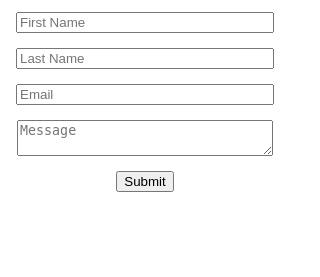
Scenario: <Form /> › shows validation errors
Click the button "Submit": (145,182) x1=116 y1=171 x2=174 y2=192
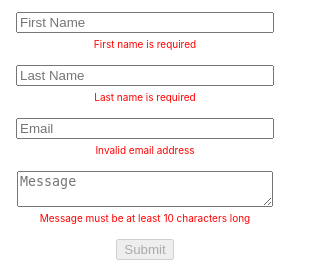
expect the text "First name is required" is shown: met, box x1=94 y1=38 x2=196 y2=50
expect the text "Last name is required" is shown: met, box x1=94 y1=91 x2=196 y2=103
expect the text "Invalid email address" is shown: met, box x1=95 y1=144 x2=194 y2=156
